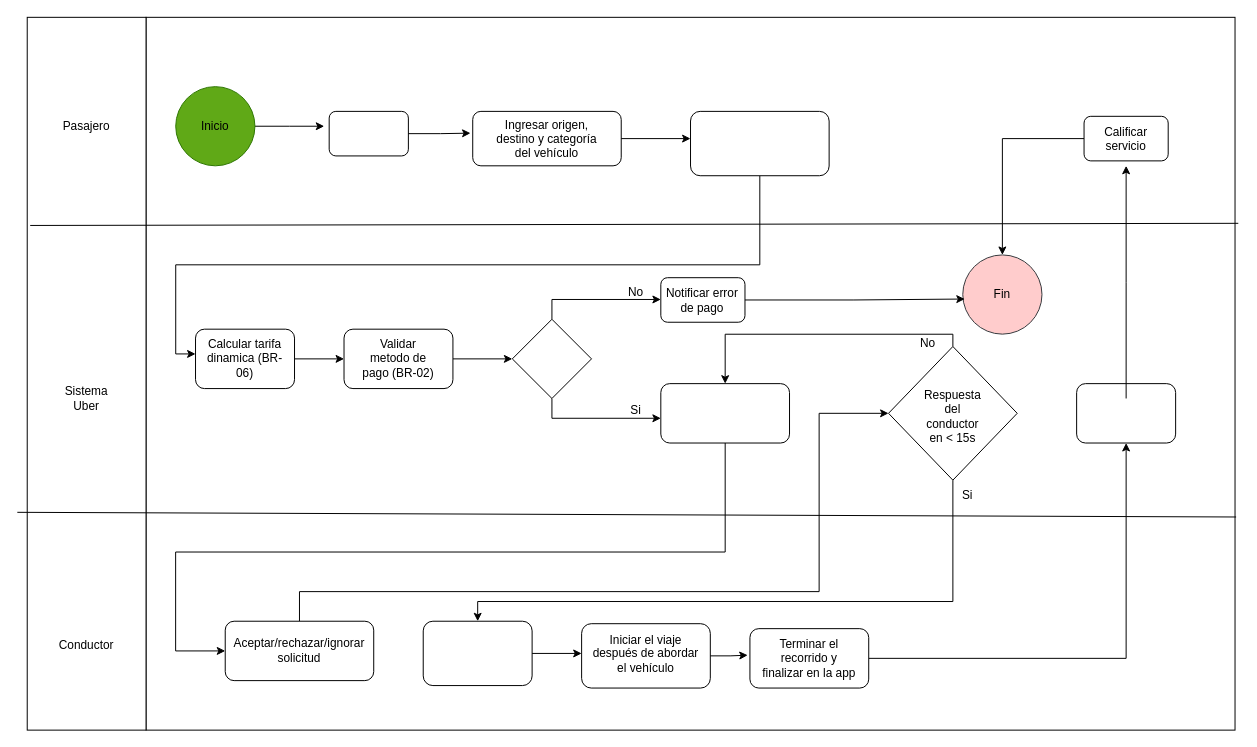
The diagram is 1257 pixels wide and 747 high, and some of its shapes have lost their labels. Each missing label, with the box of its shape:
Buscar y enviar solicitud al conductor mas cercano (BR-05): (660, 383, 790, 443)
Conducir hasta el punto de origen: (422, 620, 532, 686)
Generar recibo y factura: (1076, 383, 1176, 443)
Necesidad de viaje: (328, 110, 408, 156)
Seleccionar metodo de pago y confirmar viaje: (690, 110, 829, 176)
¿Pago Valido?: (511, 318, 592, 398)
